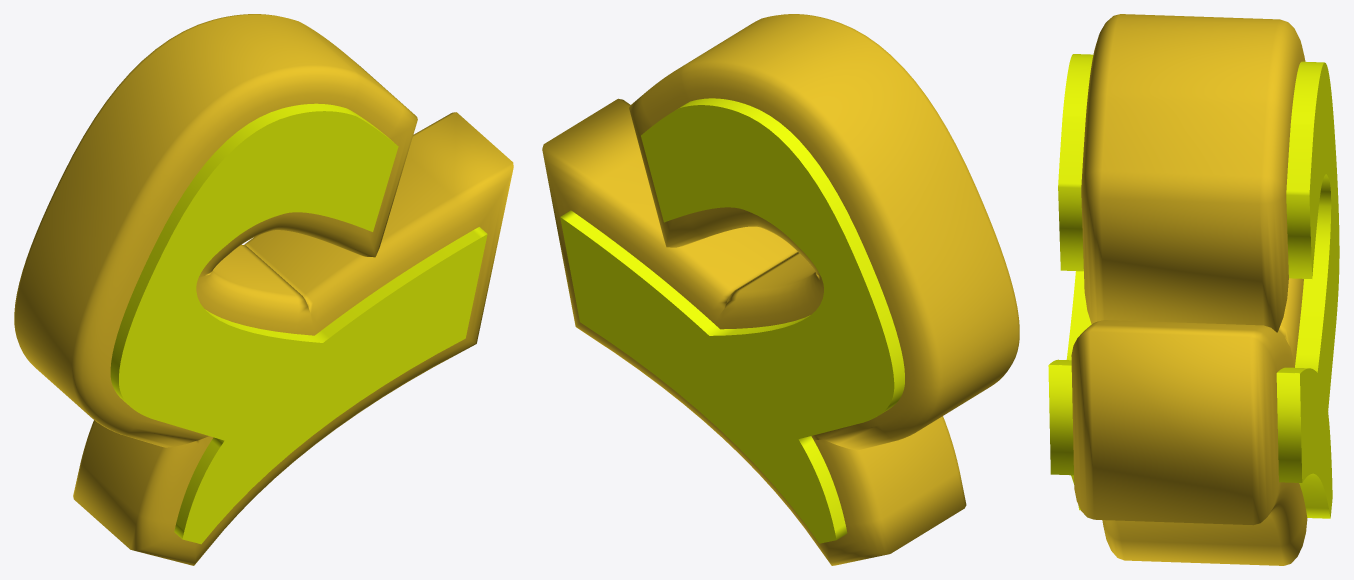
The picture shows the model from 3 angles, left to right: view 1: azimuth 30°, elevation 25°; view 2: azimuth 150°, elevation 25°; view 3: azimuth 270°, elevation 25°; orthographic projection. The views are drawn at different scales.
Parts seen in each view (by area): view 1: text 2, Text; view 2: text 2, Text; view 3: text 2, Text.
Boxes of the visible parts, box(x1,y1,x2,y2) form: text 2: box(14, 14, 513, 565); Text: box(110, 103, 487, 544); text 2: box(542, 14, 1019, 565); Text: box(560, 98, 904, 543); text 2: box(1071, 14, 1307, 565); Text: box(1048, 54, 1339, 518).
Size of the model in its own units: 29.11 by 30.9 by 14.04.
